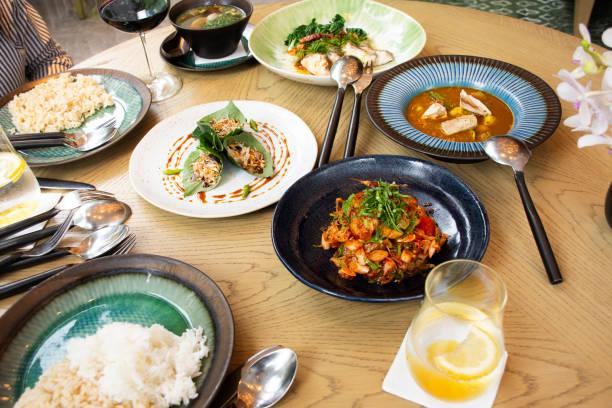Braised Crucian Carp: (2, 254, 234, 406), (270, 154, 487, 302), (129, 98, 313, 218), (363, 53, 559, 162), (0, 66, 152, 166), (246, 0, 414, 86), (155, 0, 256, 73)
